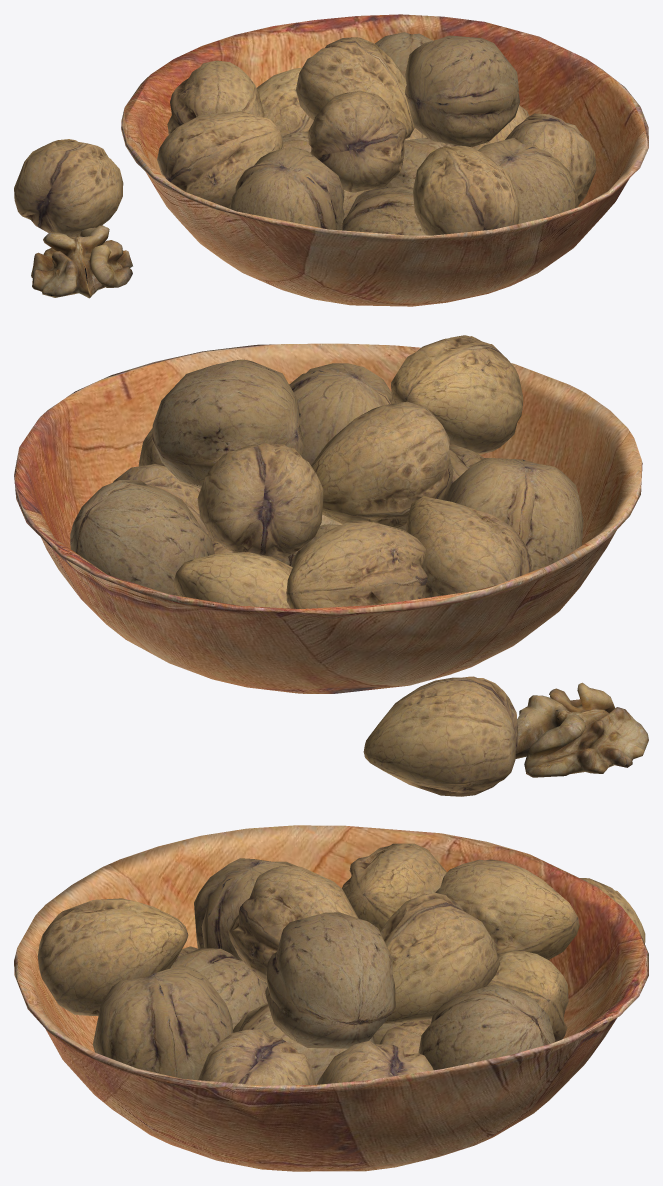
Rendered from nuez-hero.glb.
3 views of the same model, one above another, from view 1: azimuth 30°, elevation 25°; view 2: azimuth 150°, elevation 25°; view 3: azimuth 270°, elevation 25° (orthographic). The views are drawn at different scales.
Visible parts, largest first — view 1: Object_3, Object_5, Object_4, Object_2; view 2: Object_5, Object_3, Object_4, Object_2; view 3: Object_3, Object_5, Object_4.
Part boxes in pixels (<box>): Object_3: <box>121,14,648,306</box>; Object_5: <box>14,37,596,238</box>; Object_4: <box>229,32,578,235</box>; Object_2: <box>31,225,132,298</box>; Object_5: <box>113,335,533,796</box>; Object_3: <box>14,343,642,693</box>; Object_4: <box>70,359,583,595</box>; Object_2: <box>515,682,648,777</box>; Object_3: <box>14,825,648,1171</box>; Object_5: <box>37,843,645,1085</box>; Object_4: <box>92,858,555,1084</box>.
Size of the model in its own units: 0.2688 by 0.0971 by 0.2369.
4 materials, 4 textured.
